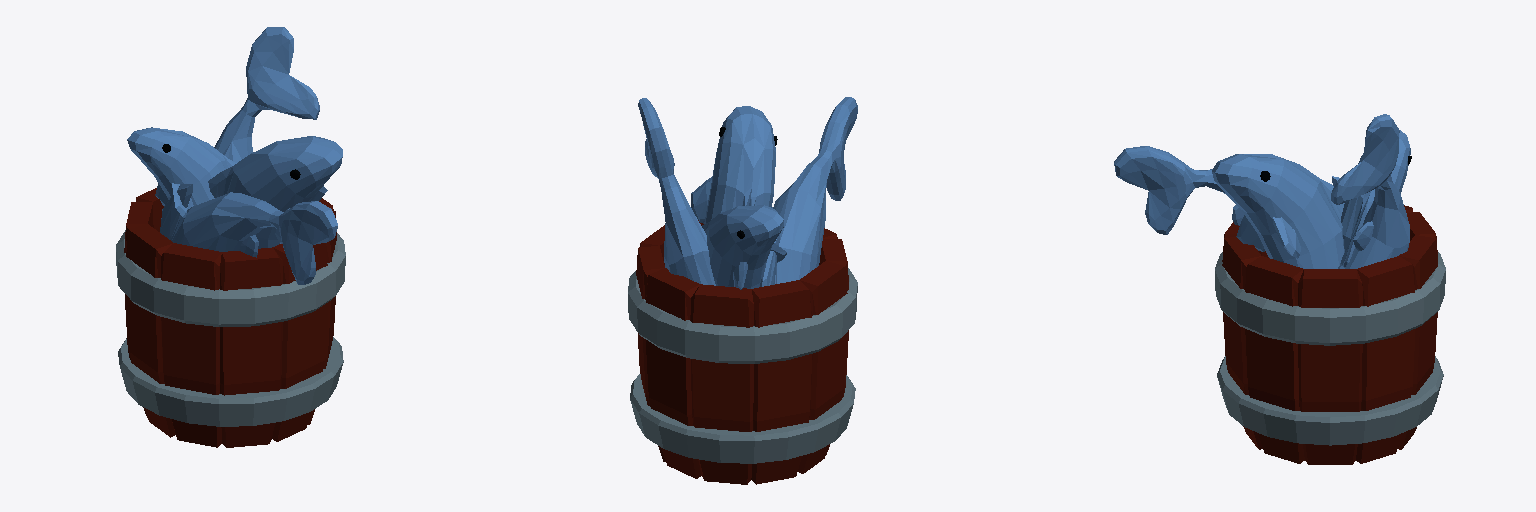
File: bucket_fish.obj
3 views of the same model, side by side, from view 1: azimuth 30°, elevation 25°; view 2: azimuth 150°, elevation 25°; view 3: azimuth 270°, elevation 25° (orthographic).
Visible parts, largest first — view 1: bucket_fish_Cylinder.030; view 2: bucket_fish_Cylinder.030; view 3: bucket_fish_Cylinder.030.
Boxes of the visible parts, <box> form: bucket_fish_Cylinder.030: <box>116,27,345,447</box>; bucket_fish_Cylinder.030: <box>628,97,857,484</box>; bucket_fish_Cylinder.030: <box>1114,114,1445,464</box>.
Size of the model in its own units: 0.7083 by 1.18 by 1.02.